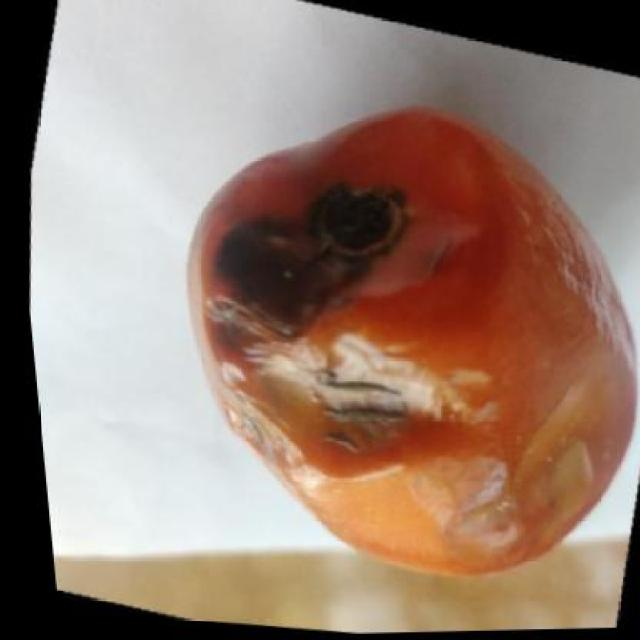overripe tomato: (167, 90, 640, 589)
